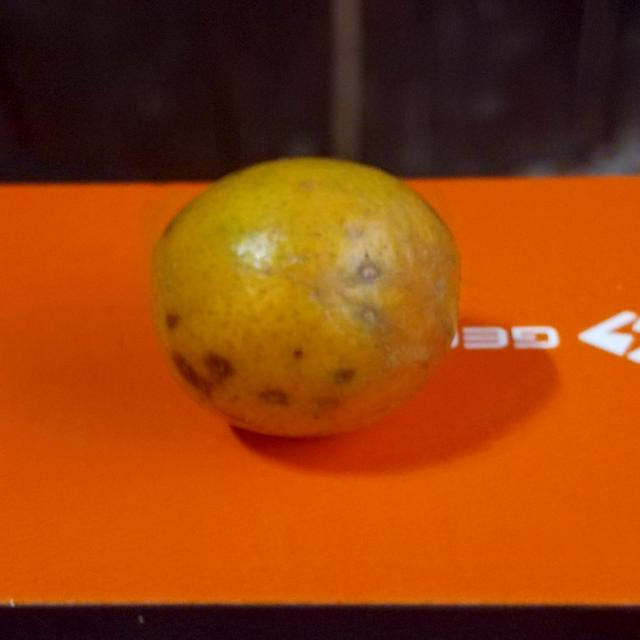black spot: (148, 153, 474, 444)
